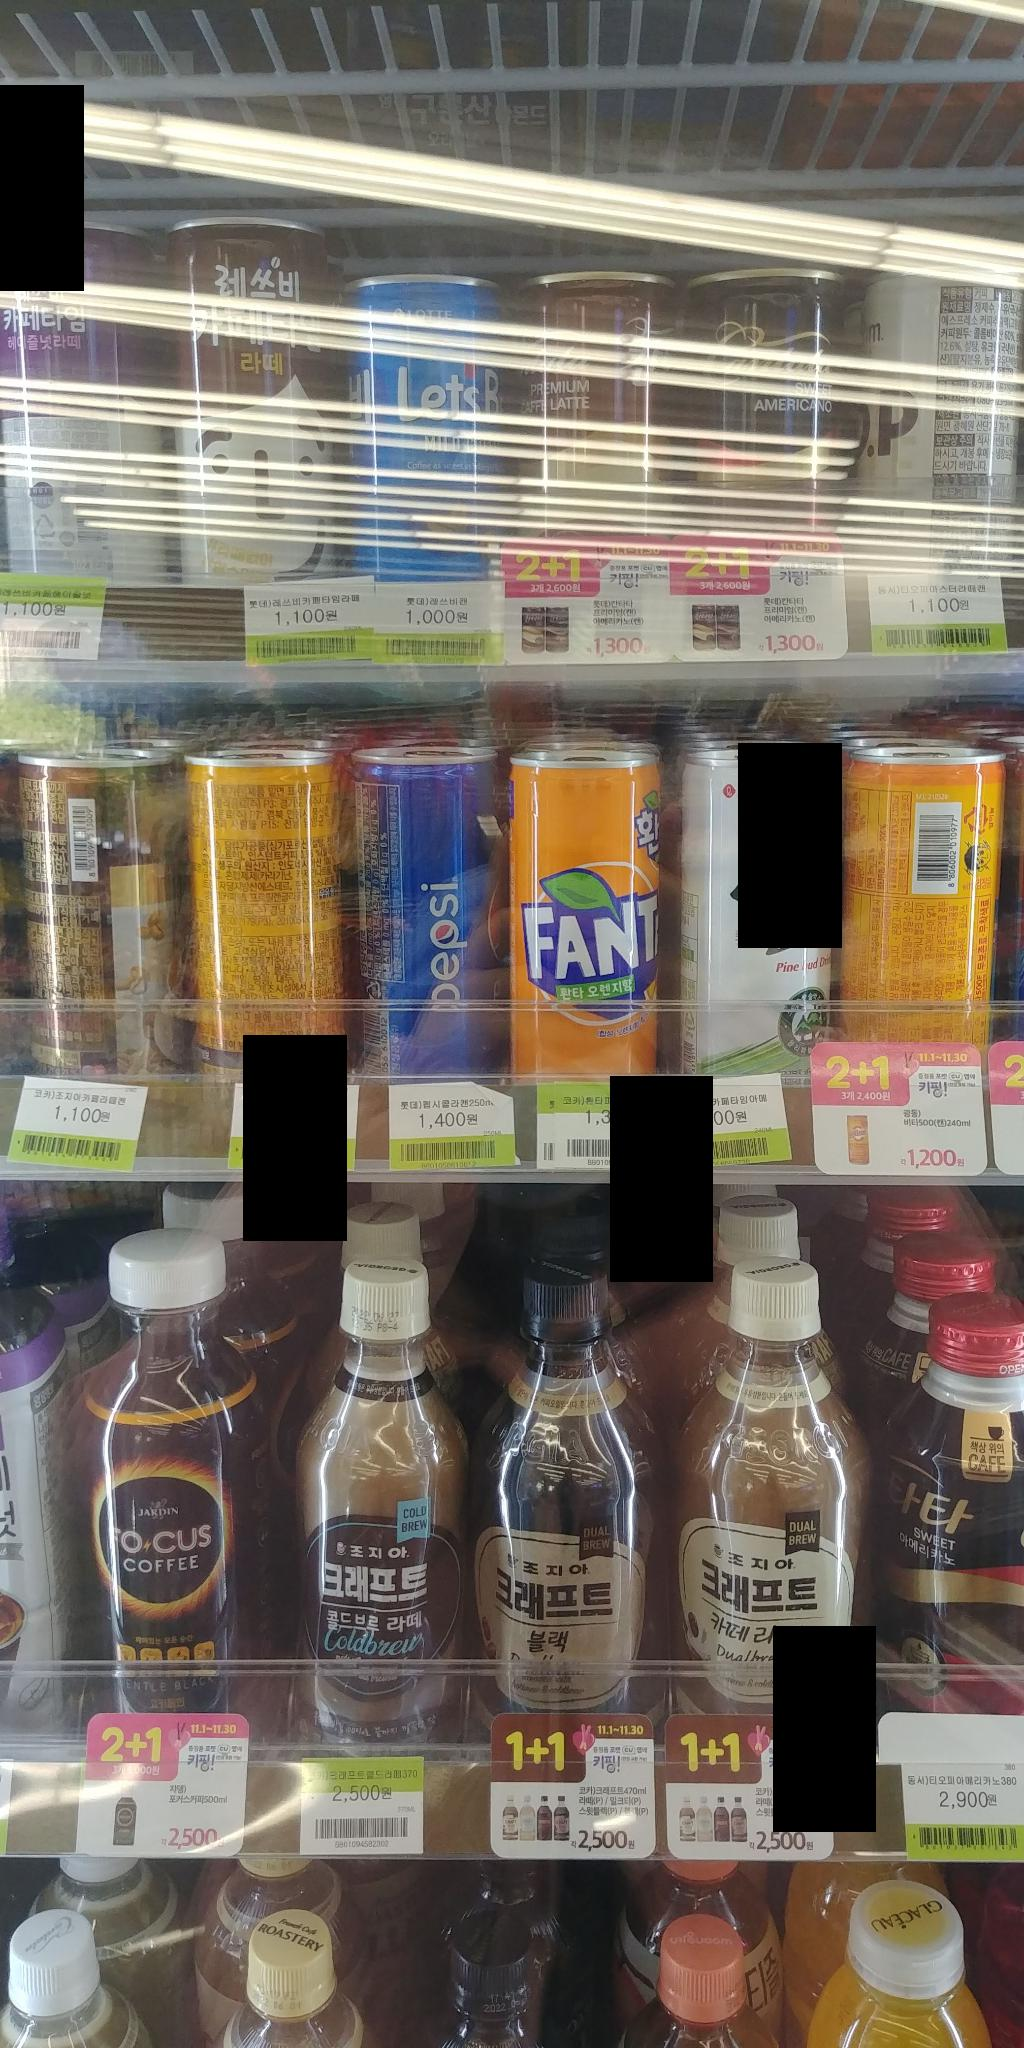georgiacraft_black: (466, 1246, 671, 1754)
letsbe: (333, 253, 509, 593)
